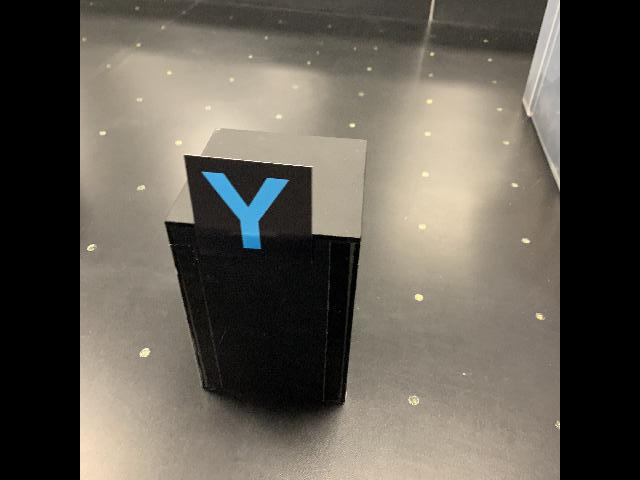y: (182, 153, 314, 277)
